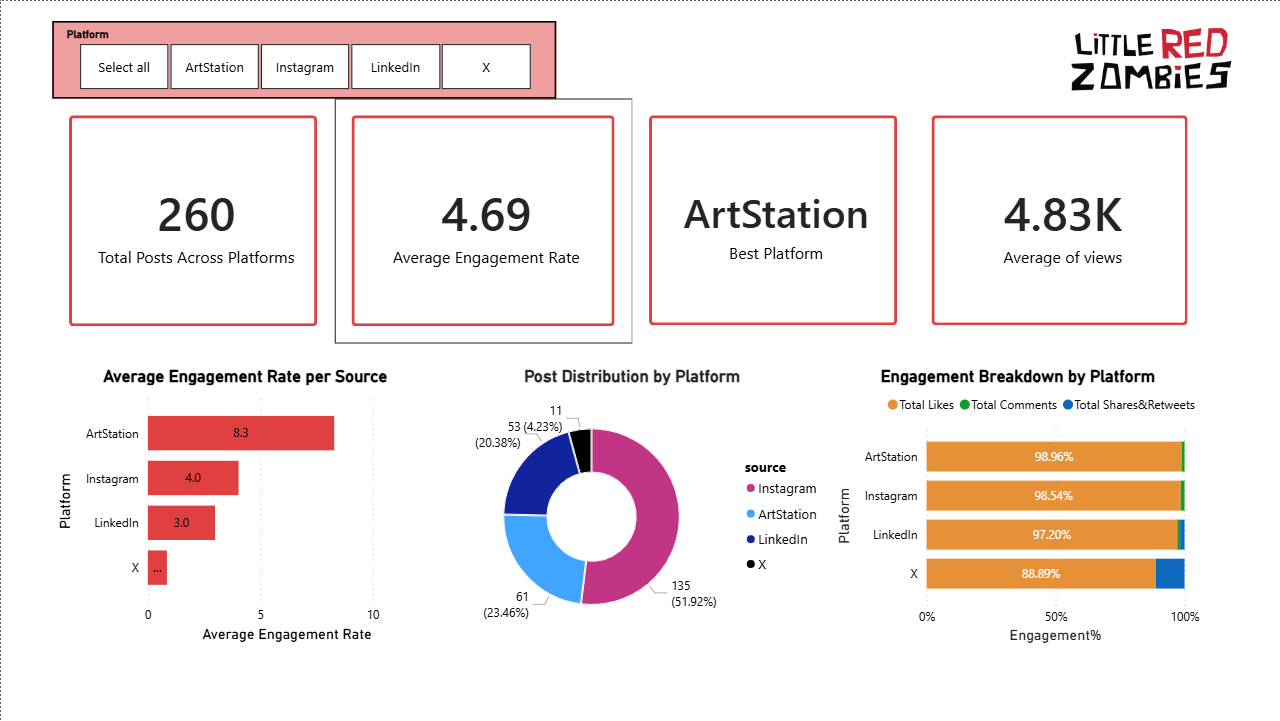

The page's visual inventory and layout, read from the dashboard file:
{"tool":"powerbi","page":{"name":"Overview","canvas":[1280,720],"ordinal":0},"visuals":[{"type":"cardVisual","fields":{"Data":["CountNonNull(engagement.source)"]},"box":[51.2,97.5,282.5,245],"z":0},{"type":"cardVisual","fields":{"Data":["Avg(engagement.engagement_rate)"]},"box":[333.8,97.5,297.5,245],"z":1000},{"type":"cardVisual","fields":{"Data":["engagement.Best Platform"]},"box":[631.1,97.8,282.2,244.4],"z":2000},{"type":"cardVisual","fields":{"Data":["Avg(engagement.views)"]},"box":[913.3,97.8,290,244.4],"z":3000},{"type":"clusteredBarChart","title":"Average Engagement Rate per Source","fields":{"Category":["engagement.source"],"Y":["Avg(engagement.engagement_rate)"]},"box":[51.2,365,386.2,281.2],"z":4000},{"type":"donutChart","title":"Post Distribution by Platform","fields":{"Category":["engagement.source"],"Y":["CountNonNull(engagement.source)"]},"box":[432.5,365,397.5,282.5],"z":5000},{"type":"slicer","fields":{"Values":["engagement.source"]},"box":[51.2,20,503.8,77.5],"z":6000},{"type":"hundredPercentStackedBarChart","title":"Engagement Breakdown by Platform","fields":{"Category":["engagement.source"],"Y":["engagement.Total_Likes","engagement.Total Comments","engagement.Total Shares&Retweets"]},"box":[830,365,373.8,282.5],"z":7000},{"type":"image","box":[1045,15,211.2,87.5],"z":8000}]}

Visuals, with their boxes in screenshot pixels (x1, y1, x2, y2), scaled from the page's 1280x720 canvas onto the 1280x721 screenshot:
cardVisual - CountNonNull(engagement.source): x1=51 y1=98 x2=334 y2=343
cardVisual - Avg(engagement.engagement_rate): x1=334 y1=98 x2=631 y2=343
cardVisual - engagement.Best Platform: x1=631 y1=98 x2=913 y2=343
cardVisual - Avg(engagement.views): x1=913 y1=98 x2=1203 y2=343
"Average Engagement Rate per Source" clusteredBarChart: x1=51 y1=366 x2=437 y2=647
"Post Distribution by Platform" donutChart: x1=432 y1=366 x2=830 y2=648
slicer - engagement.source: x1=51 y1=20 x2=555 y2=98
"Engagement Breakdown by Platform" hundredPercentStackedBarChart: x1=830 y1=366 x2=1204 y2=648
image: x1=1045 y1=15 x2=1256 y2=103
